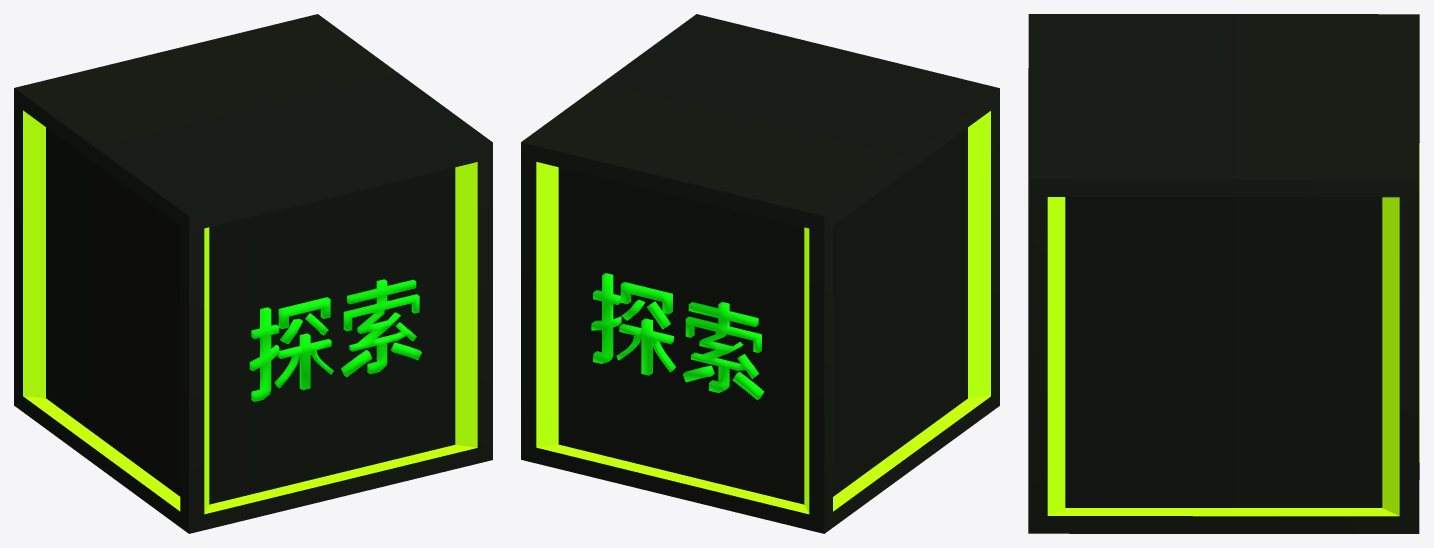
Rendered from Game_Cube_D.glb.
The picture shows the model from 3 angles, left to right: view 1: azimuth 30°, elevation 25°; view 2: azimuth 150°, elevation 25°; view 3: azimuth 270°, elevation 25°; orthographic projection. The views are drawn at different scales.
Visible parts, largest first — view 1: GameCubeD; view 2: GameCubeD; view 3: GameCubeD.
Part boxes in pixels (box(x1,y1,x2,y2)): GameCubeD: box(14, 14, 492, 533); GameCubeD: box(521, 14, 999, 533); GameCubeD: box(1028, 14, 1419, 533).
Size of what is drawn, in the model's own units: 0.6397 by 0.639 by 0.6397.
Materials: 1 (1 with a texture image).
